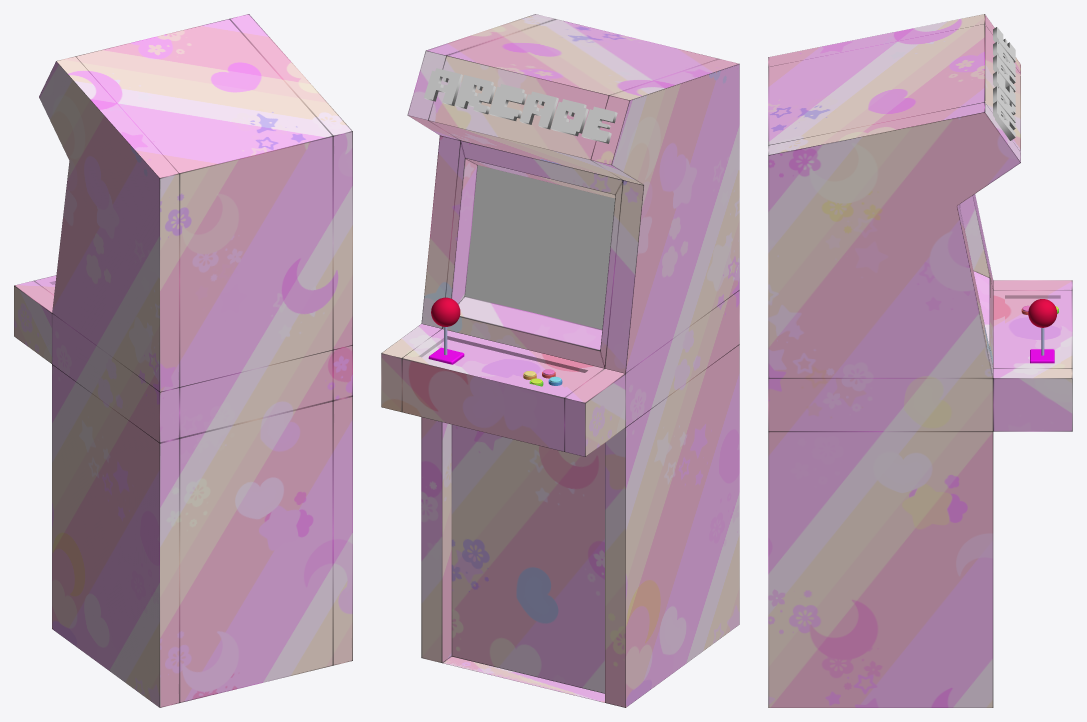
Rendered from Arcade Machine Model by K.A (2025).fbx.
The picture shows the model from 3 angles, left to right: view 1: azimuth 30°, elevation 25°; view 2: azimuth 150°, elevation 25°; view 3: azimuth 270°, elevation 25°; orthographic projection. The views are drawn at different scales.
Parts seen in each view (by area): view 1: Arcaade Machine; view 2: Arcaade Machine, Text, Joystick; view 3: Arcaade Machine, Text, Joystick.
Part boxes in pixels (x1,y1,x2,y2): Arcaade Machine: (14,14,352,707); Arcaade Machine: (381,14,739,707); Text: (424,68,617,143); Joystick: (431,297,460,354); Arcaade Machine: (768,14,1072,707); Text: (993,27,1015,140); Joystick: (1028,299,1057,355).
Bounding box in the file's own units: 61 × 173 × 79.81.
Materials: 14 (1 with a texture image).
